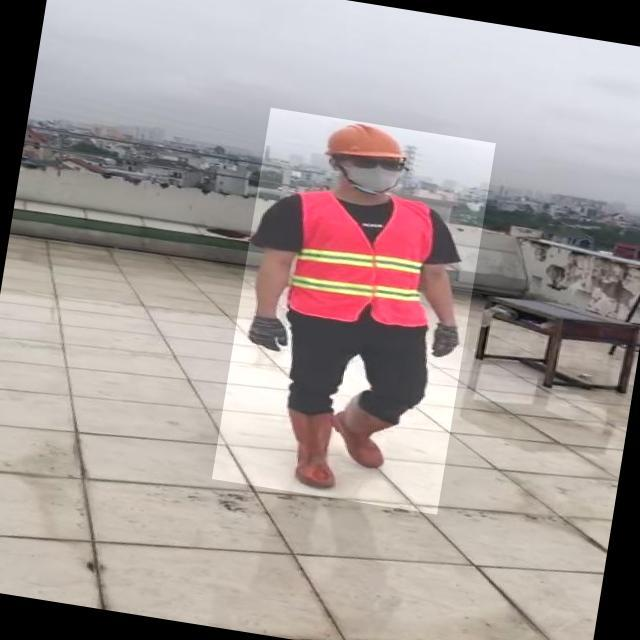Gloves: (424, 320, 471, 362), (243, 313, 292, 353)
Helmet: (319, 116, 416, 170)
Human: (212, 108, 496, 515)
Safety Boot: (325, 390, 403, 471), (278, 409, 349, 493)
Safety Vest: (280, 183, 450, 332)
